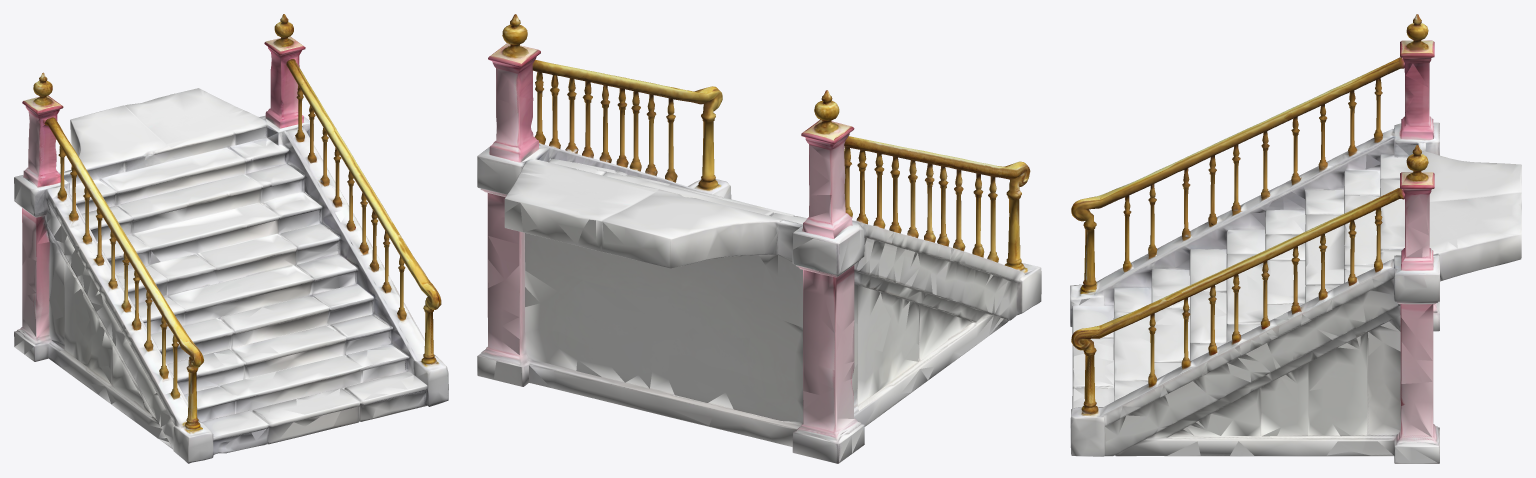
File: stair.glb
3 renders of one model, left to right at view 1: azimuth 30°, elevation 25°; view 2: azimuth 150°, elevation 25°; view 3: azimuth 270°, elevation 25°, orthographic. The views are drawn at different scales.
Parts seen in each view (by area): view 1: tripo_node_f2ffc3e6-efd2-46aa-a199-1e43c761587c; view 2: tripo_node_f2ffc3e6-efd2-46aa-a199-1e43c761587c; view 3: tripo_node_f2ffc3e6-efd2-46aa-a199-1e43c761587c.
Boxes of the visible parts, bbox=[...] form: tripo_node_f2ffc3e6-efd2-46aa-a199-1e43c761587c: bbox=[14, 14, 448, 463]; tripo_node_f2ffc3e6-efd2-46aa-a199-1e43c761587c: bbox=[477, 14, 1041, 463]; tripo_node_f2ffc3e6-efd2-46aa-a199-1e43c761587c: bbox=[1070, 14, 1521, 463].
Bounding box in the file's own units: 0.7969 × 0.7544 × 1.
1 material, 1 textured.
